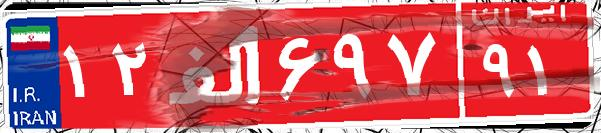1: (57, 26, 110, 107), (525, 38, 570, 115)
2: (110, 28, 158, 105)
6: (273, 28, 330, 110)
7: (385, 28, 445, 110)
9: (330, 28, 385, 110), (475, 38, 525, 113)
الف: (158, 15, 273, 115)
